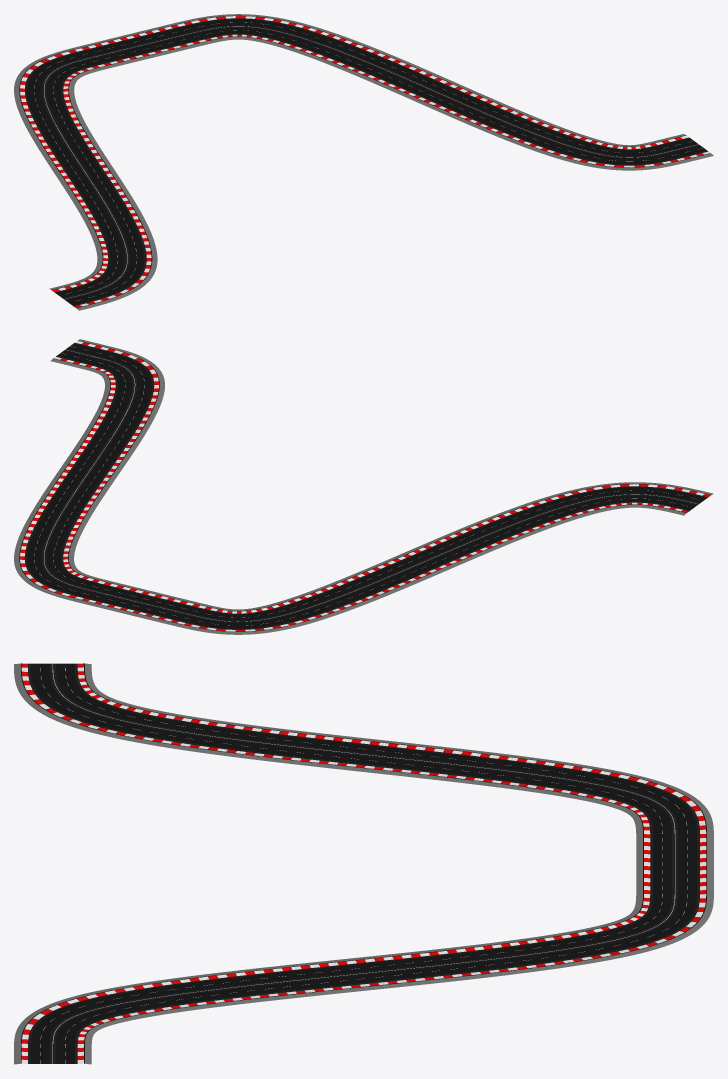
Rendered from S0.3c2-mue.glb.
The picture shows the model from 3 angles, top to bottom: view 1: azimuth 30°, elevation 25°; view 2: azimuth 150°, elevation 25°; view 3: azimuth 270°, elevation 25°; orthographic projection. The views are drawn at different scales.
Parts seen in each view (by area): view 1: Grid; view 2: Grid; view 3: Grid.
Boxes of the visible parts, left/top/right/bottom form: Grid: left=14, top=14, right=713, bottom=310; Grid: left=14, top=339, right=713, bottom=634; Grid: left=14, top=663, right=713, bottom=1064.
Size of the model in its own units: 304 by 0.31 by 225.
